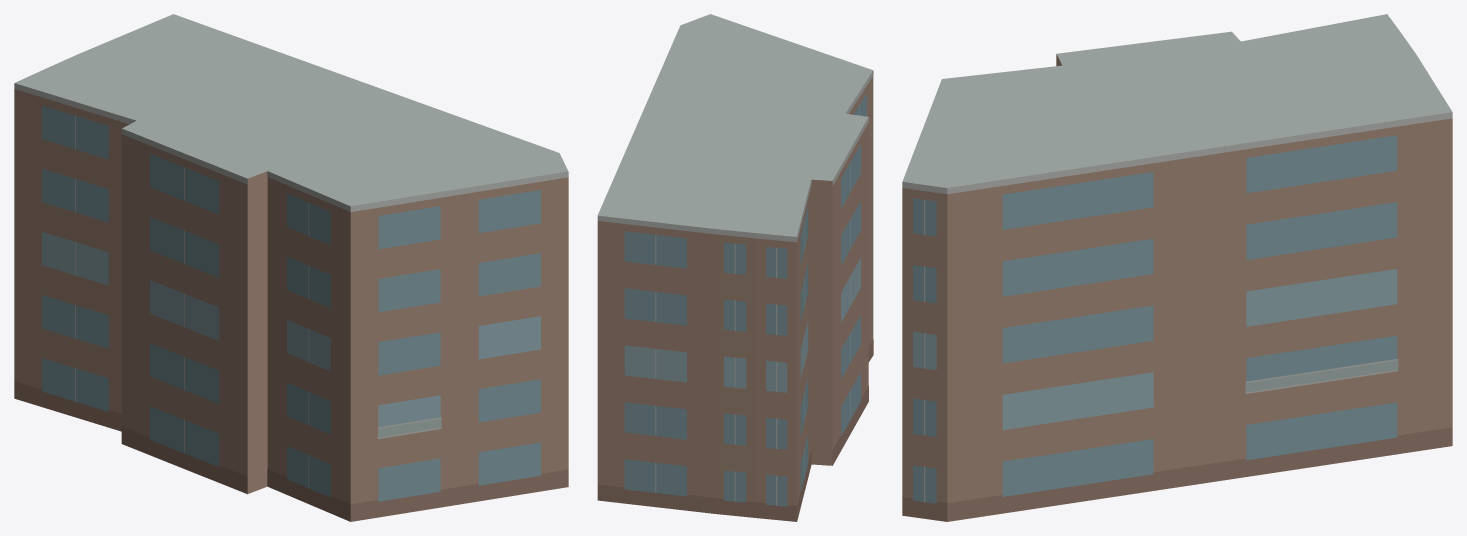
Rendered from survey-upis-32735924.glb.
The picture shows the model from 3 angles, left to right: view 1: azimuth 30°, elevation 25°; view 2: azimuth 150°, elevation 25°; view 3: azimuth 270°, elevation 25°; orthographic projection. The views are drawn at different scales.
Parts seen in each view (by area): view 1: survey-upis-32735924.tmp; view 2: survey-upis-32735924.tmp; view 3: survey-upis-32735924.tmp.
Boxes of the visible parts, bbox=[...] form: survey-upis-32735924.tmp: bbox=[14, 14, 568, 521]; survey-upis-32735924.tmp: bbox=[597, 14, 873, 521]; survey-upis-32735924.tmp: bbox=[902, 14, 1452, 521].
Bounding box in the file's own units: 14.72 × 13.15 × 19.66.
